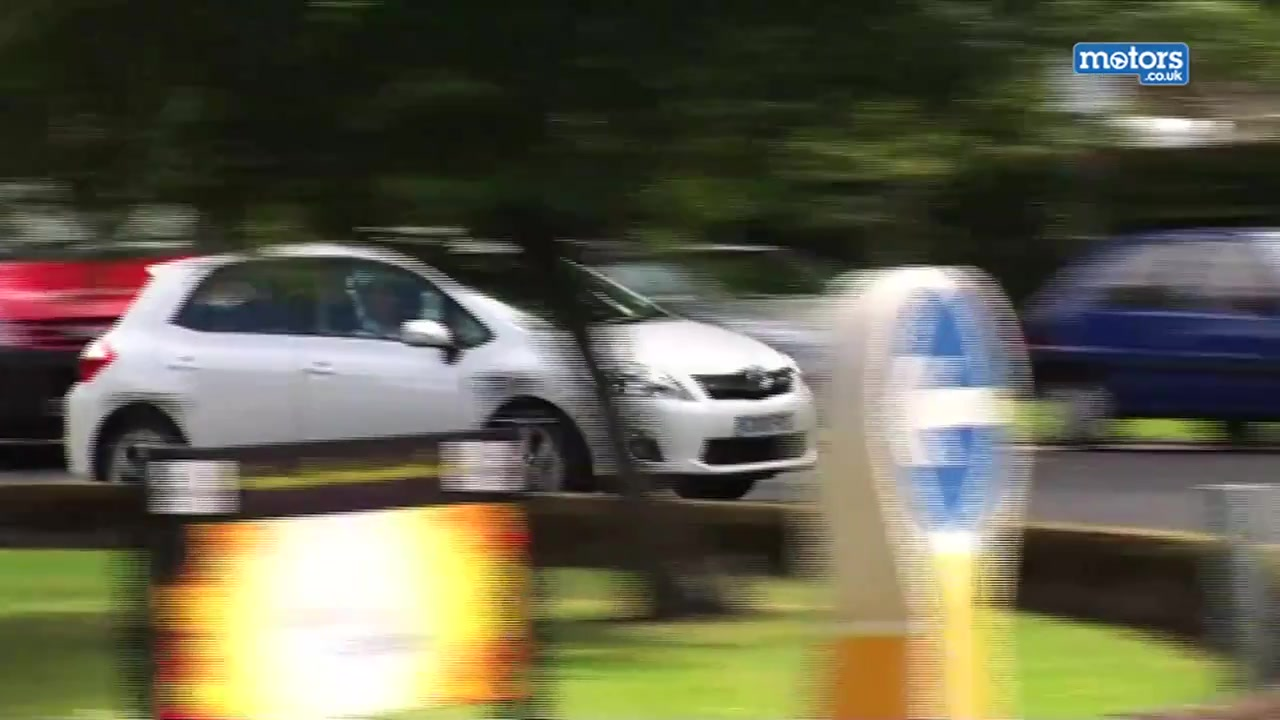car: (62, 230, 824, 502), (998, 223, 1280, 452), (644, 236, 847, 404)
